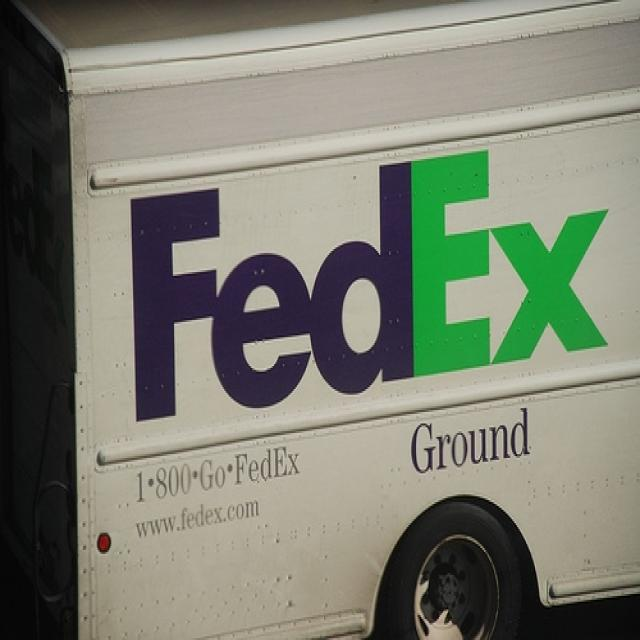fedex: (127, 145, 616, 430)
